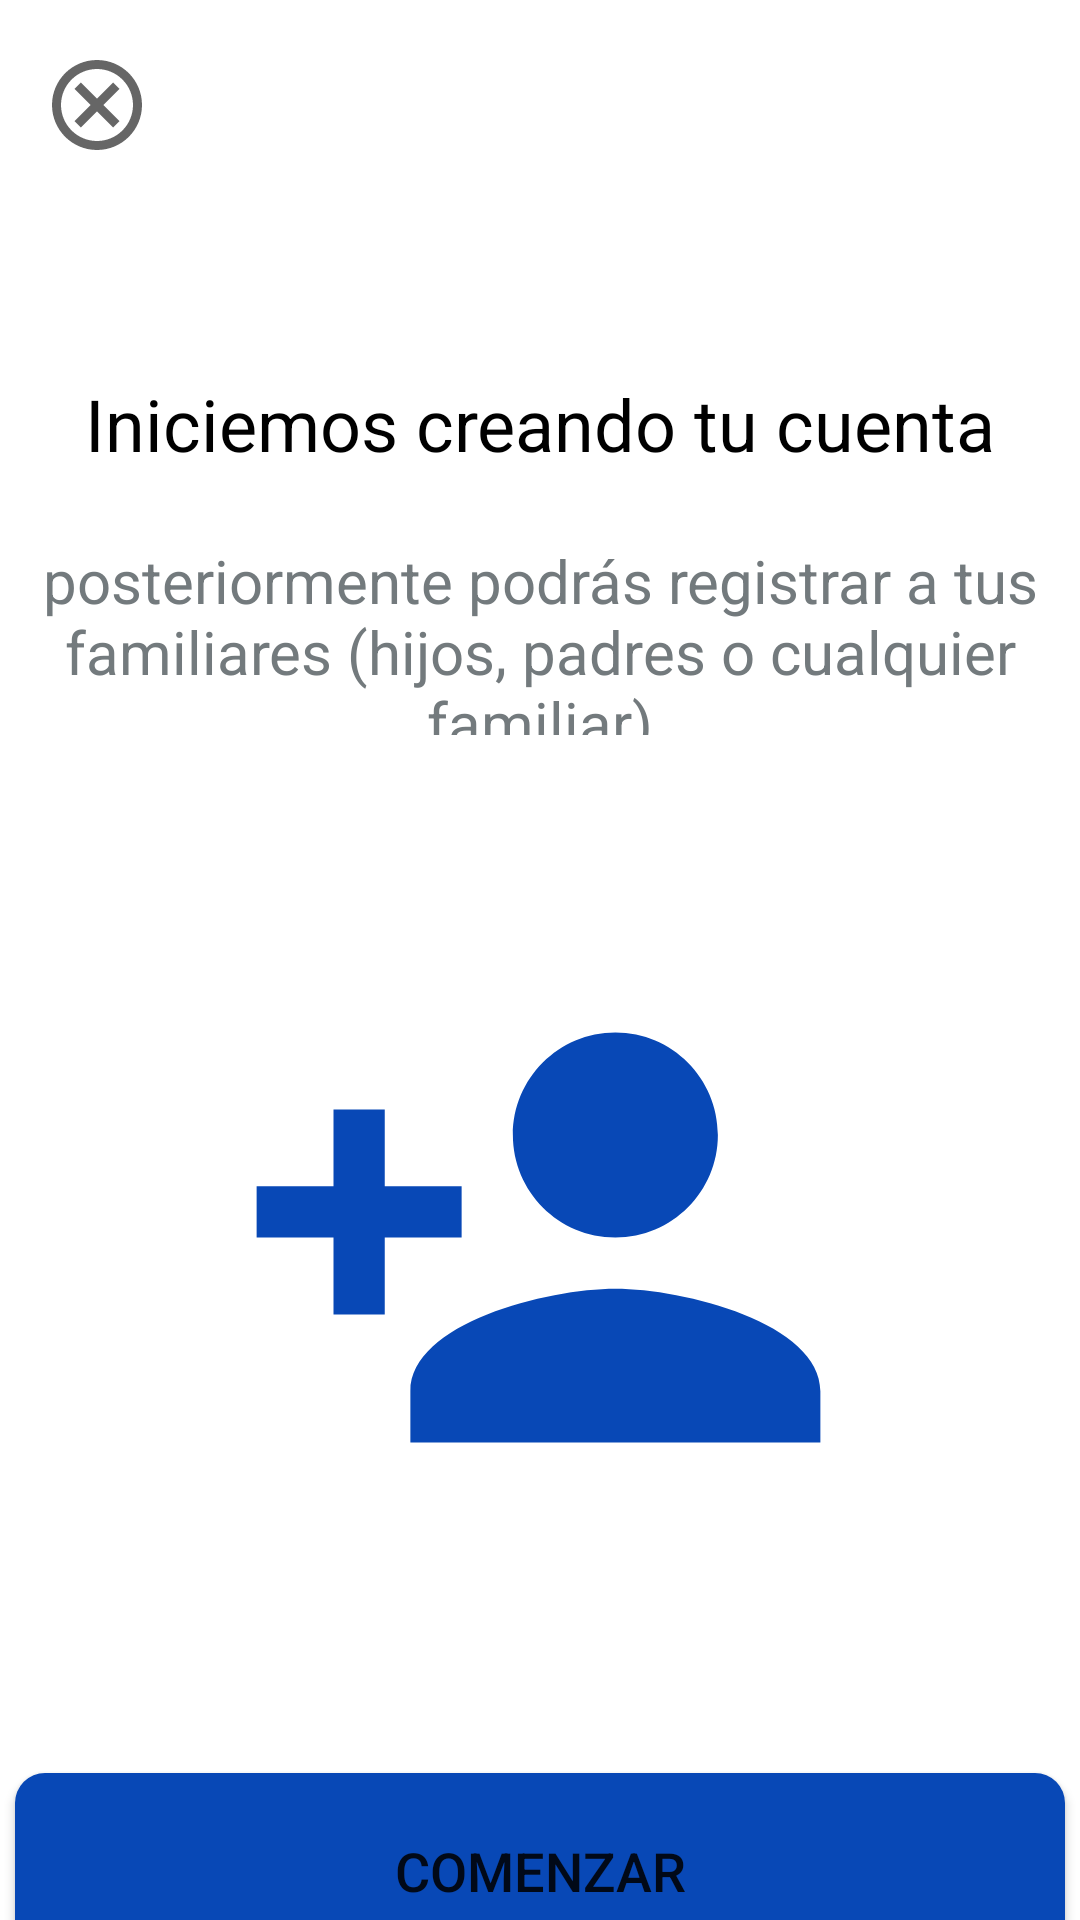

Named icons in this screenshot (1080*1920) and their bounding boxes, (x1, y1, x2, y2):
Cancelar: (52, 60, 142, 150)
